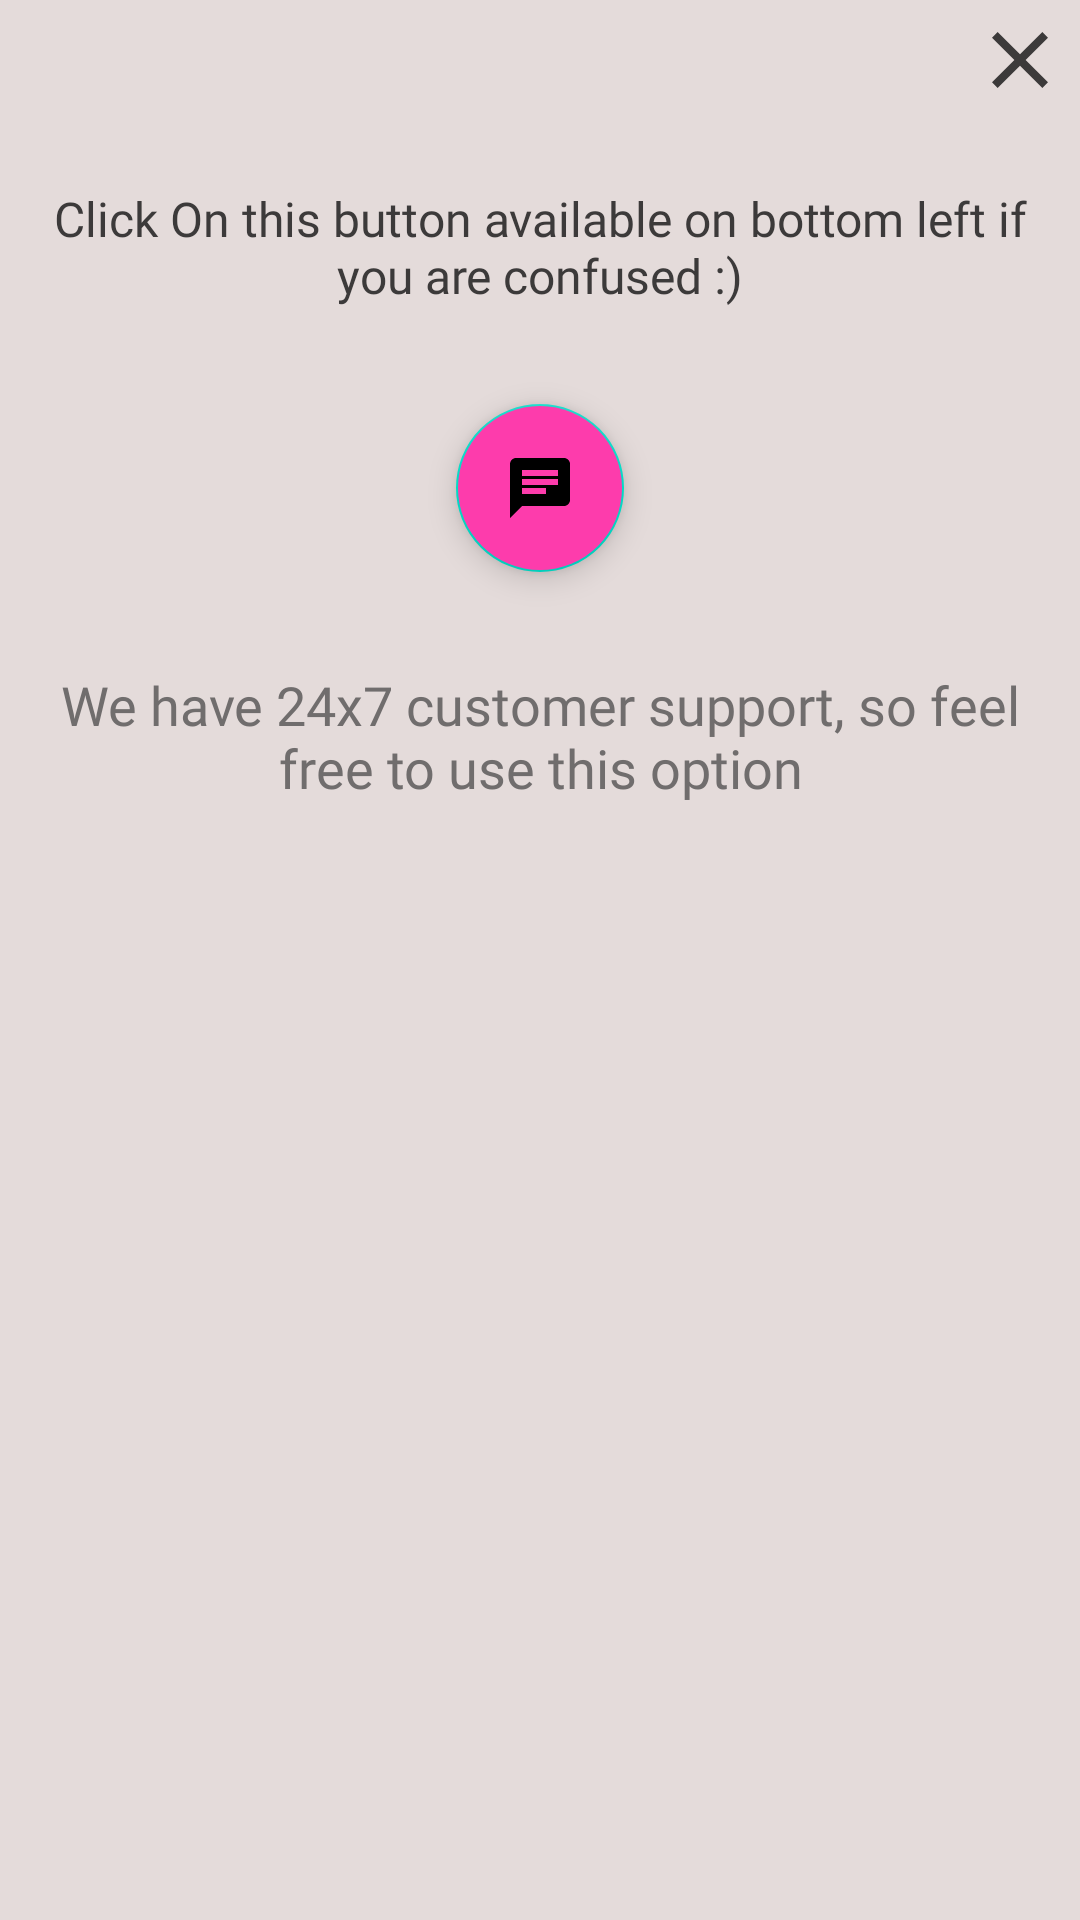

Named icons in this screenshot (1080 × 1920) and their centers, (x=x, y=y):
chat: (x=540, y=488)
close: (x=1020, y=60)
